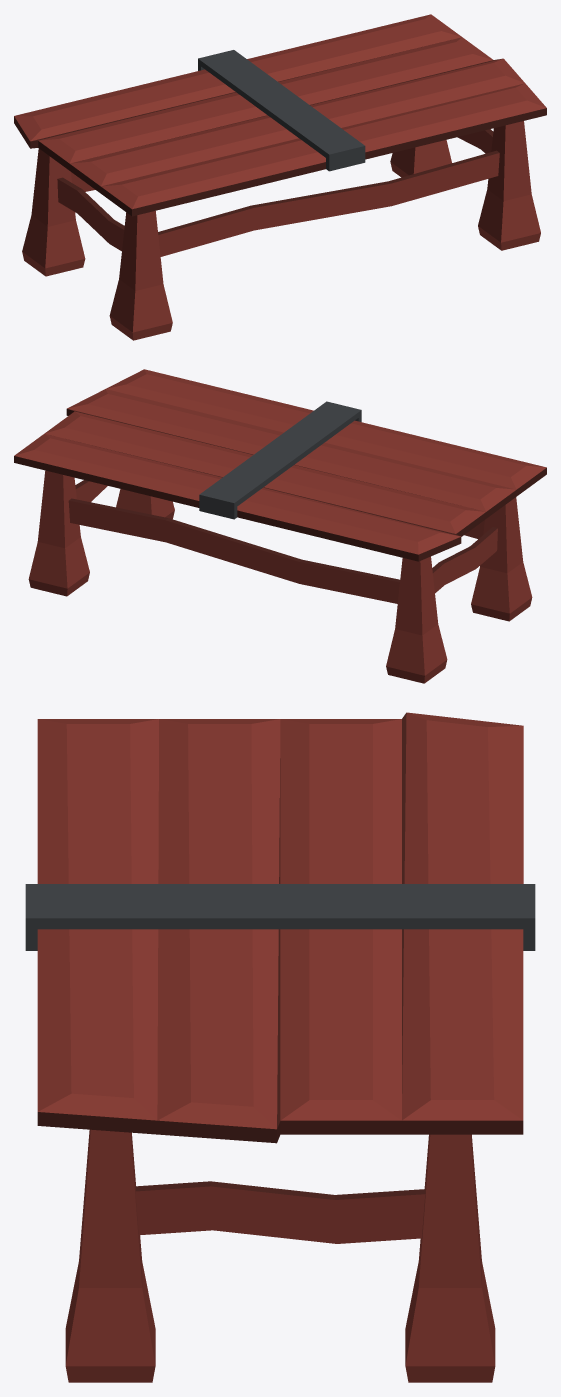
File: Table_1_Red.fbx
The picture shows the model from 3 angles, top to bottom: view 1: azimuth 30°, elevation 25°; view 2: azimuth 150°, elevation 25°; view 3: azimuth 270°, elevation 25°; orthographic projection. The views are drawn at different scales.
Visible parts, largest first — view 1: Table_1_Red_Part_1, Table_1_Red_Part_2, Table_1_Red_Part_3; view 2: Table_1_Red_Part_1, Table_1_Red_Part_2, Table_1_Red_Part_3; view 3: Table_1_Red_Part_1, Table_1_Red_Part_3, Table_1_Red_Part_2.
Part boxes in pixels (<box>): Table_1_Red_Part_1: <box>14,14,546,340</box>; Table_1_Red_Part_2: <box>14,46,546,234</box>; Table_1_Red_Part_3: <box>198,50,365,171</box>; Table_1_Red_Part_1: <box>14,369,546,683</box>; Table_1_Red_Part_2: <box>14,409,546,582</box>; Table_1_Red_Part_3: <box>199,401,361,519</box>; Table_1_Red_Part_1: <box>37,712,523,1382</box>; Table_1_Red_Part_3: <box>25,884,535,950</box>; Table_1_Red_Part_2: <box>37,713,523,1199</box>.
Bounding box in the file's own units: 244 × 78.9 × 126.
